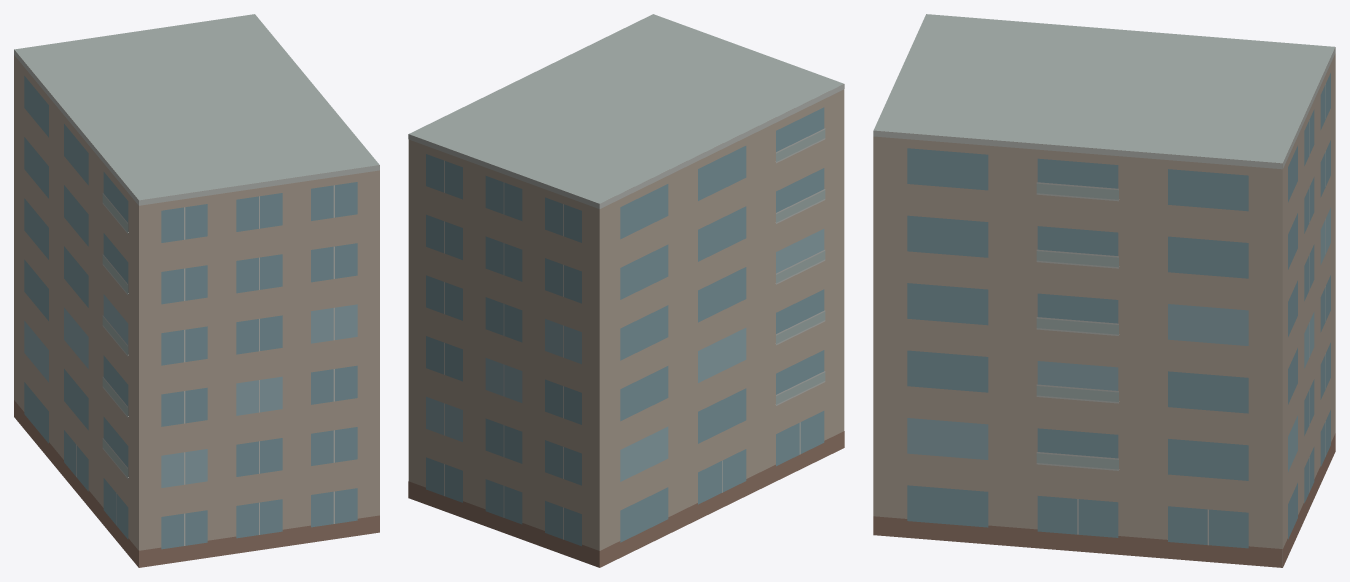
Rendered from survey-upis-32946360.glb.
3 views of the same model, side by side, from view 1: azimuth 30°, elevation 25°; view 2: azimuth 150°, elevation 25°; view 3: azimuth 270°, elevation 25° (orthographic). The views are drawn at different scales.
Parts seen in each view (by area): view 1: survey-upis-32946360.tmp; view 2: survey-upis-32946360.tmp; view 3: survey-upis-32946360.tmp.
Part boxes in pixels (left/top/right/bottom): survey-upis-32946360.tmp: left=14, top=14, right=379, bottom=567; survey-upis-32946360.tmp: left=408, top=14, right=844, bottom=567; survey-upis-32946360.tmp: left=873, top=14, right=1335, bottom=567.
Size of the model in its own units: 13.15 by 16.6 by 17.2.
